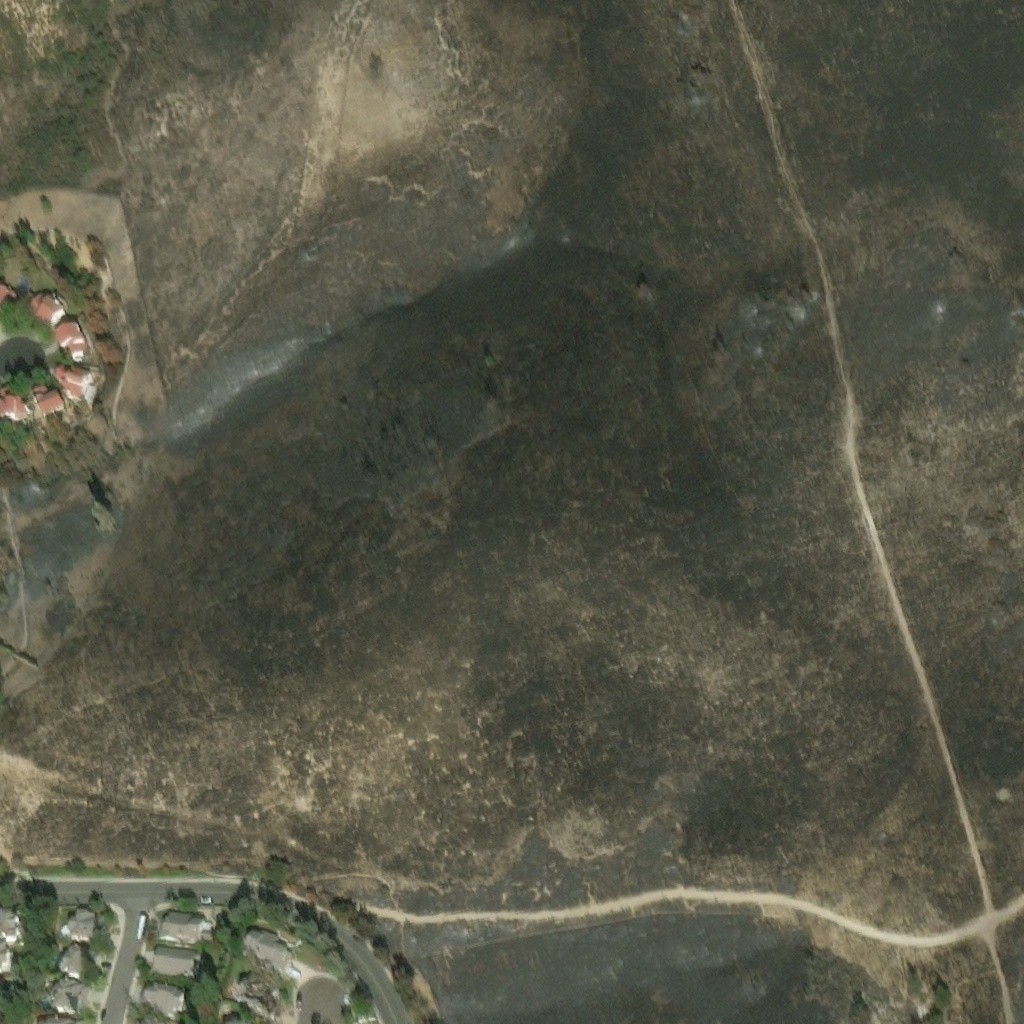0 no-damage: (246, 941, 301, 990), (154, 952, 208, 993), (164, 916, 216, 951), (23, 285, 65, 326), (51, 359, 95, 398), (55, 950, 103, 984), (144, 991, 195, 1023), (243, 989, 289, 1023), (28, 380, 65, 417), (53, 317, 89, 355), (55, 985, 88, 1021), (71, 912, 103, 948), (0, 385, 26, 421), (0, 913, 27, 945), (0, 947, 17, 978), (0, 284, 17, 310), (914, 994, 924, 1007)
